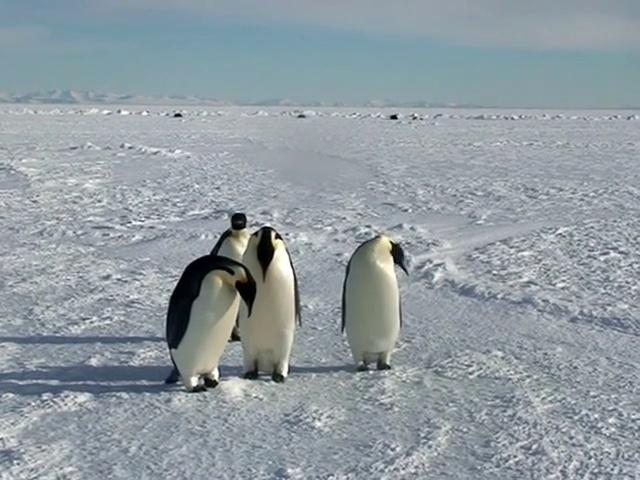animal: (342, 235, 409, 372)
